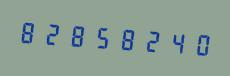eight: (65, 16, 88, 54), (113, 19, 136, 57), (17, 13, 40, 50)
five: (89, 18, 112, 55)
four: (161, 23, 184, 60)
two: (41, 14, 64, 52), (137, 21, 160, 59)
zero: (185, 24, 208, 62)
